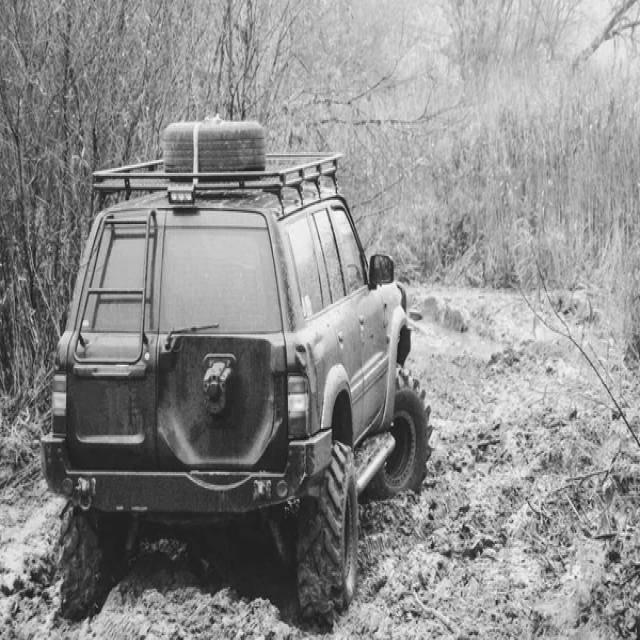Car: (41, 123, 430, 622)
